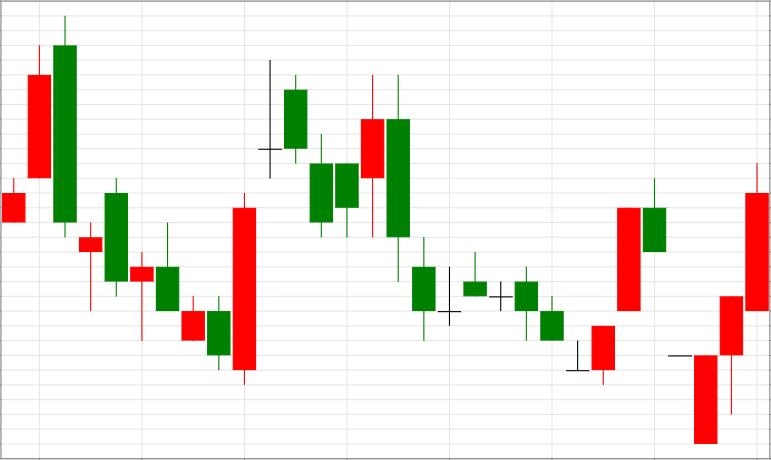bullish_engulfing_rise: (104, 178, 256, 384)
morning_star_rise: (463, 251, 615, 386)
